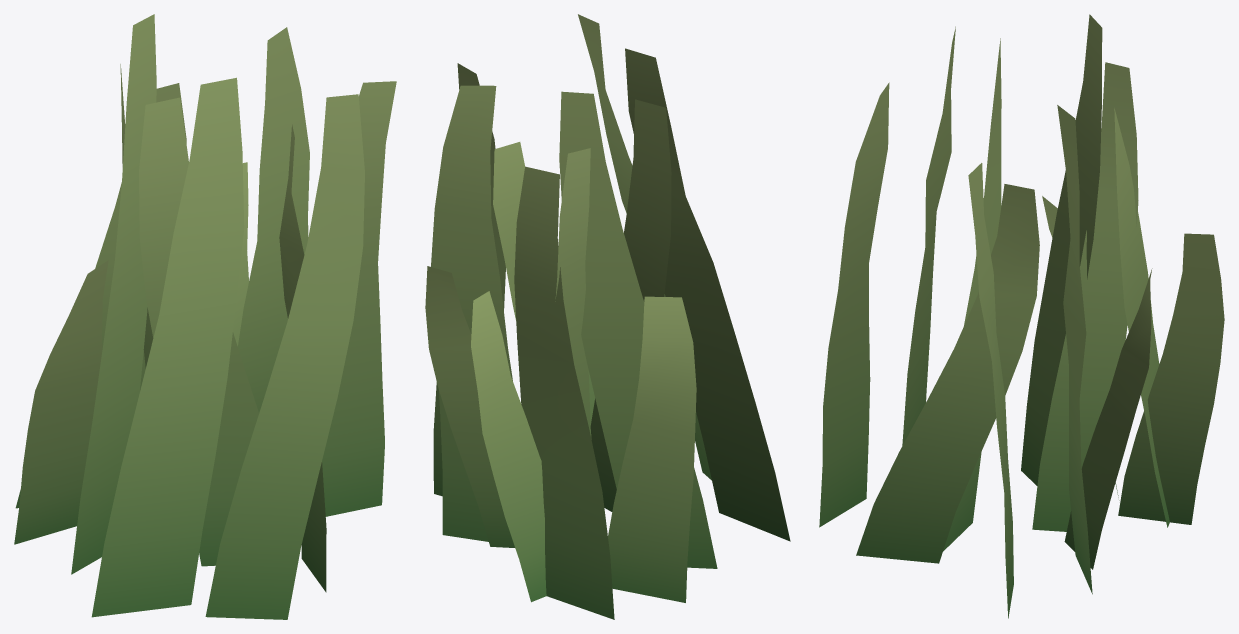
File: grass_leafs.glb
The picture shows the model from 3 angles, left to right: view 1: azimuth 30°, elevation 25°; view 2: azimuth 150°, elevation 25°; view 3: azimuth 270°, elevation 25°; orthographic projection. The views are drawn at different scales.
Visible parts, largest first — view 1: grass_leafs; view 2: grass_leafs; view 3: grass_leafs.
Part boxes in pixels (box(x1,y1,x2,y2)): grass_leafs: box(14, 14, 396, 619); grass_leafs: box(425, 14, 790, 619); grass_leafs: box(819, 14, 1224, 618).
Bounding box in the file's own units: 0.1638 × 0.2346 × 0.1711.
